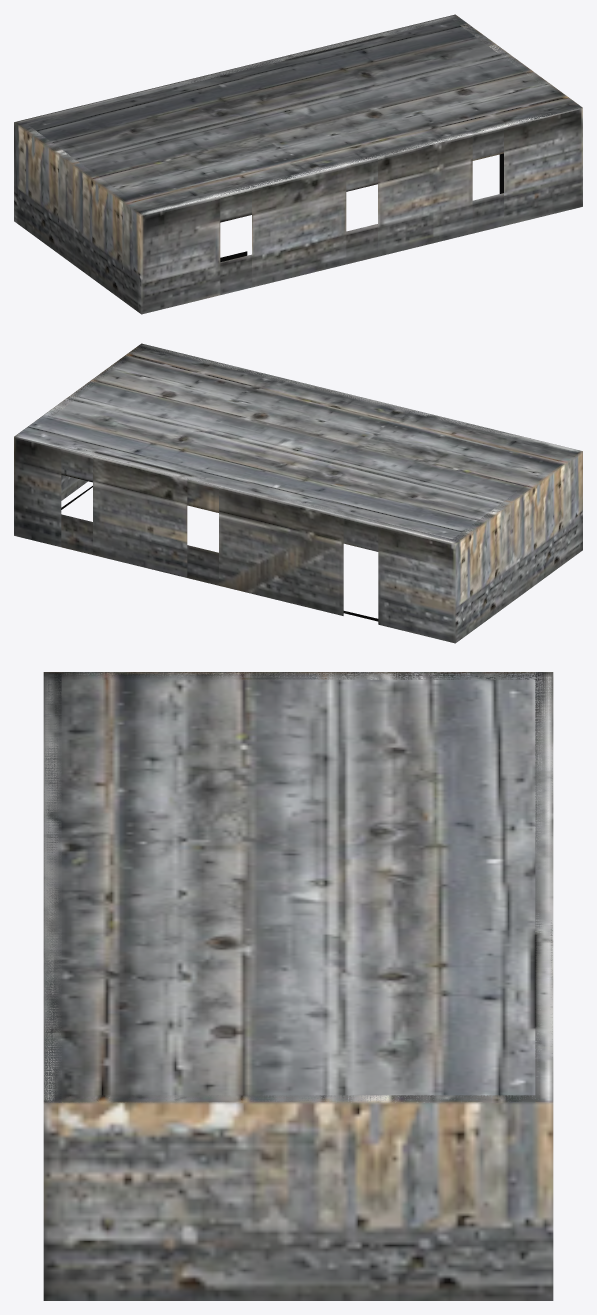
File: skin_radar_60_70.glb
The picture shows the model from 3 angles, top to bottom: view 1: azimuth 30°, elevation 25°; view 2: azimuth 150°, elevation 25°; view 3: azimuth 270°, elevation 25°; orthographic projection. The views are drawn at different scales.
Parts seen in each view (by area): view 1: radar_60_70; view 2: radar_60_70; view 3: radar_60_70.
Boxes of the visible parts, x1,y1,x2,y2 form: radar_60_70: [14, 14, 582, 314]; radar_60_70: [14, 343, 582, 643]; radar_60_70: [43, 672, 553, 1300].
Bounding box in the file's own units: 14 × 3.04 × 7.
1 material, 1 textured.
